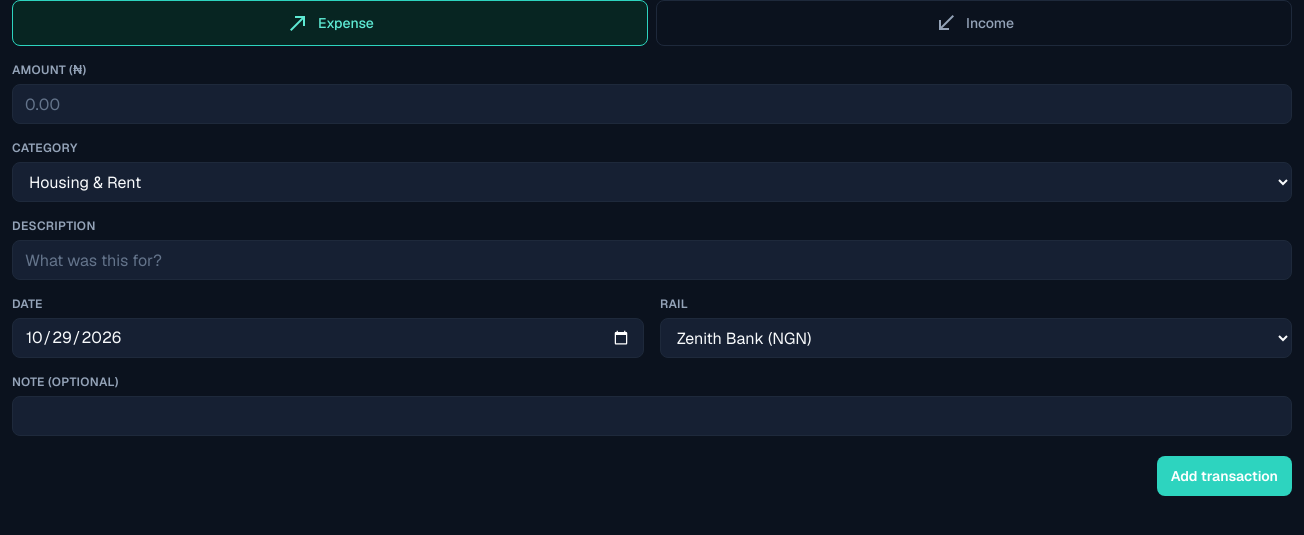
it: TransactionForm › blocks submission and shows a message for a zero amount
Type "Nothing" into the field labelled "Description". click: x=652, y=260
box: [12,240,1292,280]
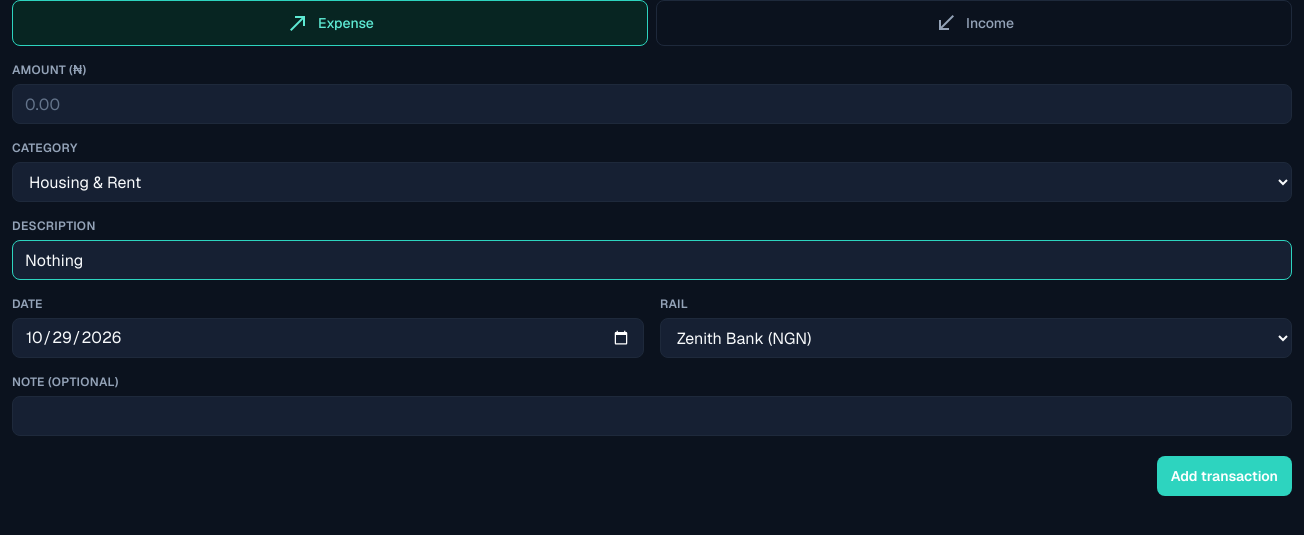
Click the button "Add transaction". click: x=1224, y=476
box: [1157,456,1292,496]
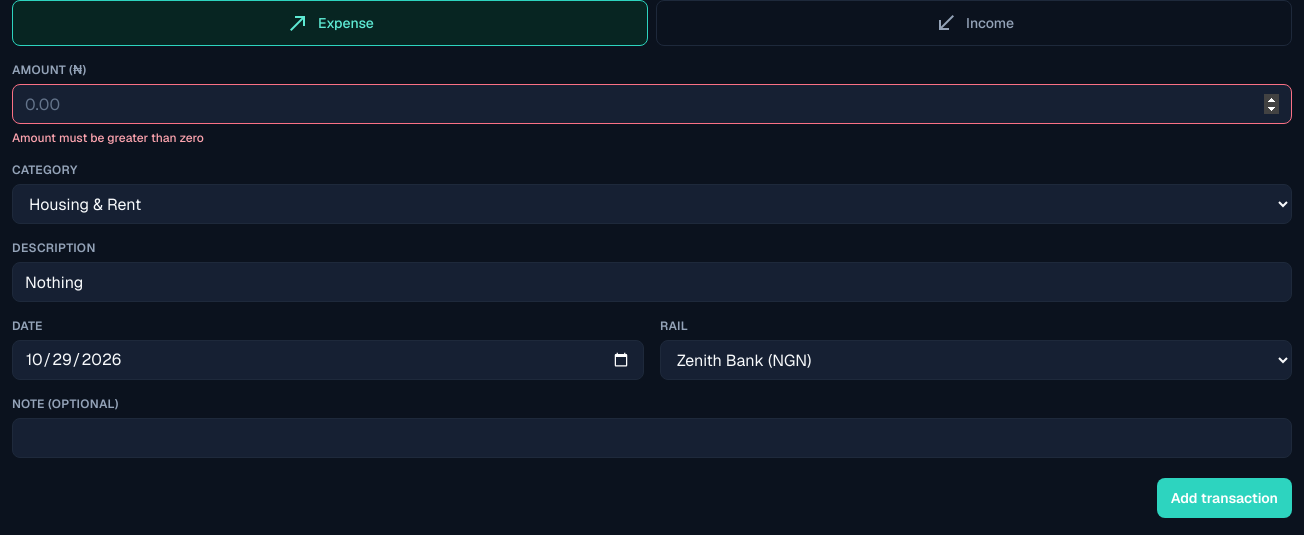
Check: the message shows "greater than zero", box [12,130,204,146]
